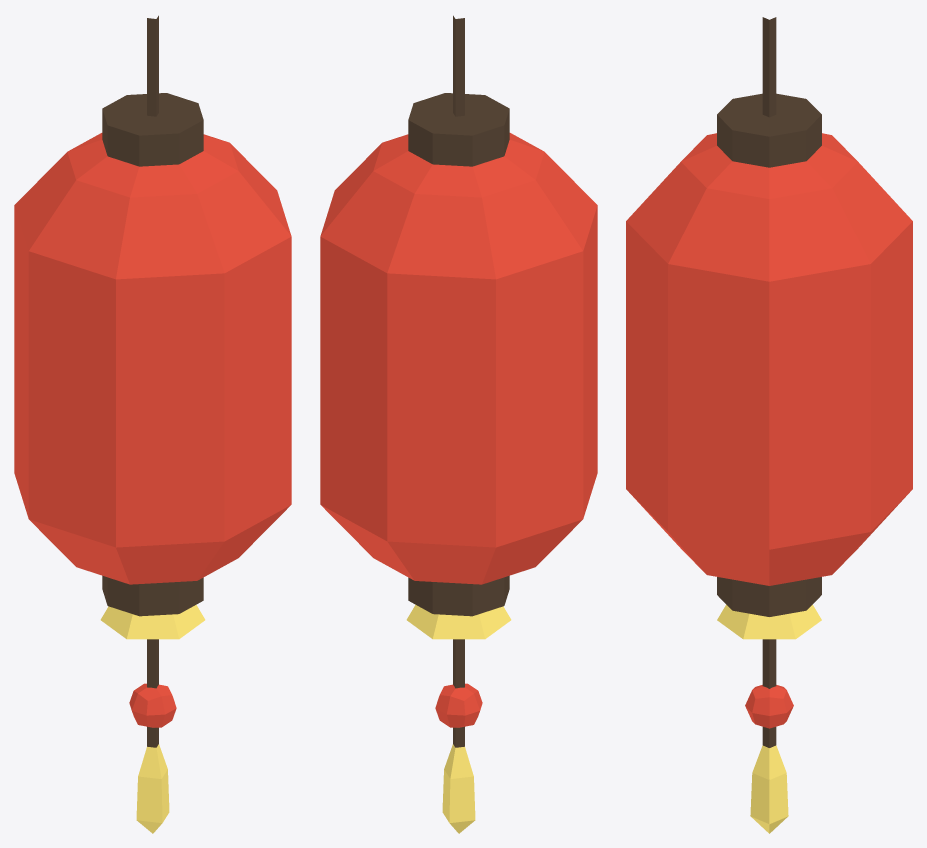
File: lantern-long.glb
The picture shows the model from 3 angles, left to right: view 1: azimuth 30°, elevation 25°; view 2: azimuth 150°, elevation 25°; view 3: azimuth 270°, elevation 25°; orthographic projection.
Parts seen in each view (by area): view 1: lantern-long; view 2: lantern-long; view 3: lantern-long.
Boxes of the visible parts, x1=… form: lantern-long: x1=14, y1=15, x2=291, y2=833; lantern-long: x1=320, y1=15, x2=597, y2=833; lantern-long: x1=626, y1=17, x2=912, y2=833.
Bounding box in the file's own units: 0.6681 × 2.1 × 0.6681.
1 material, 1 textured.
